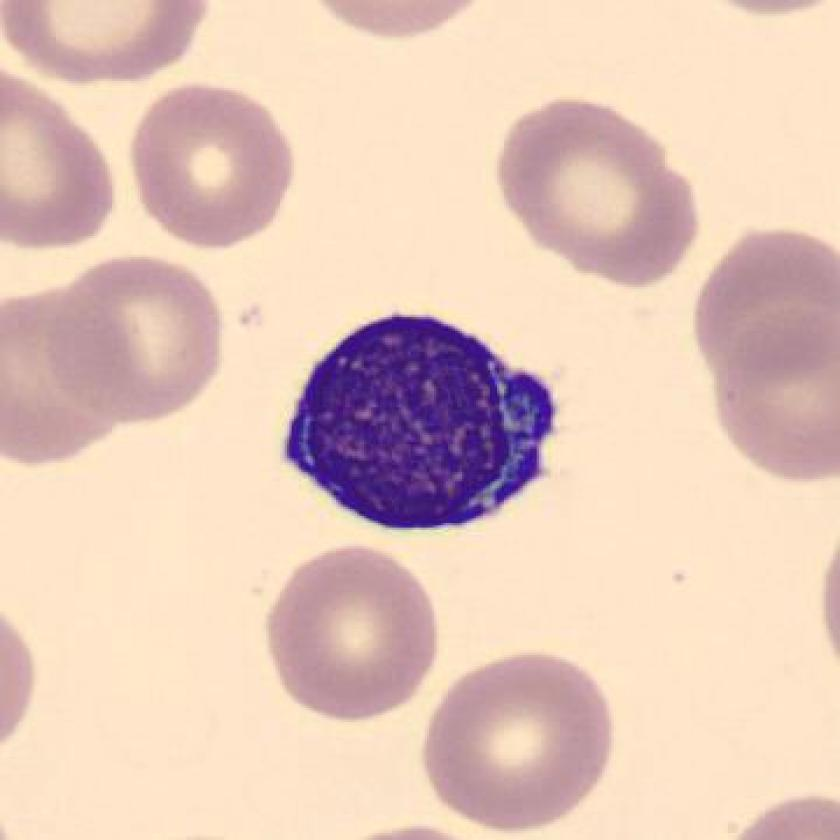lymphocyte: (256, 300, 571, 543)
